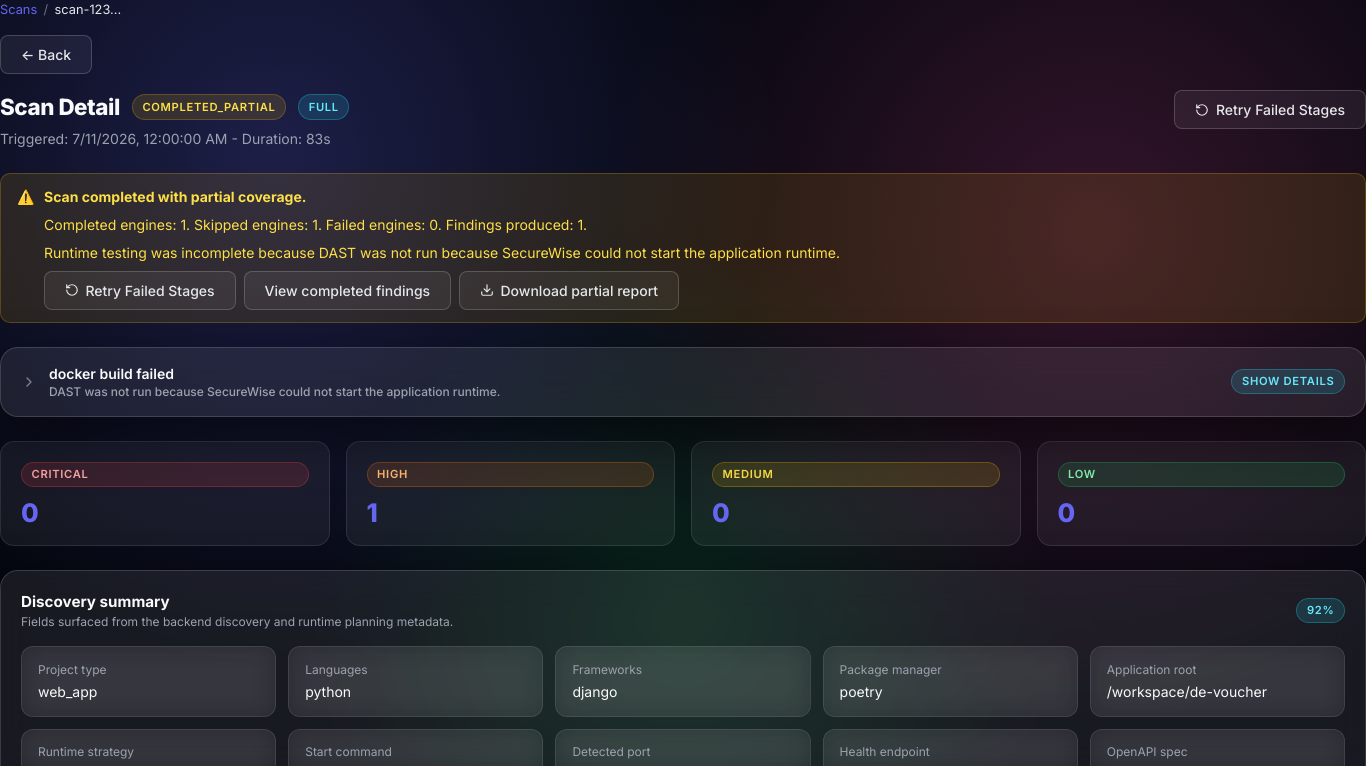
ScanDetailPage › shows partial coverage, diagnostics, and discovery data
expect the heading "Scan Detail" is shown: met, box [0,90,120,124]
expect the text "Scan completed with partial coverage." is shown: met, box [44,188,306,205]
Click the button that starts with "docker build failed": point(111, 373) [1,348,1365,416]
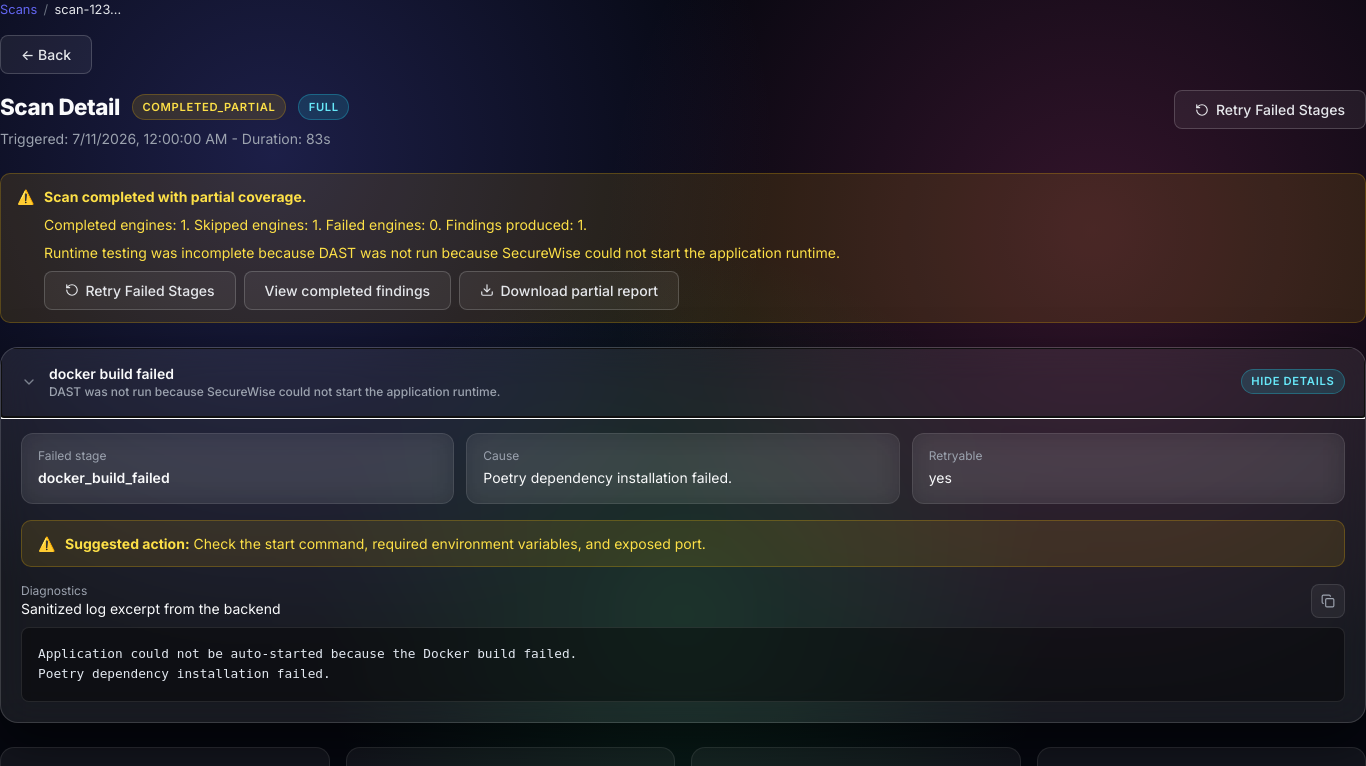
expect the text "Failed stage" is shown: met, box [38,448,106,463]
expect the text "docker_build_failed" is shown: met, box [38,469,170,486]
expect the text "Poetry dependency installation failed." is shown: met, box [483,469,732,486]
